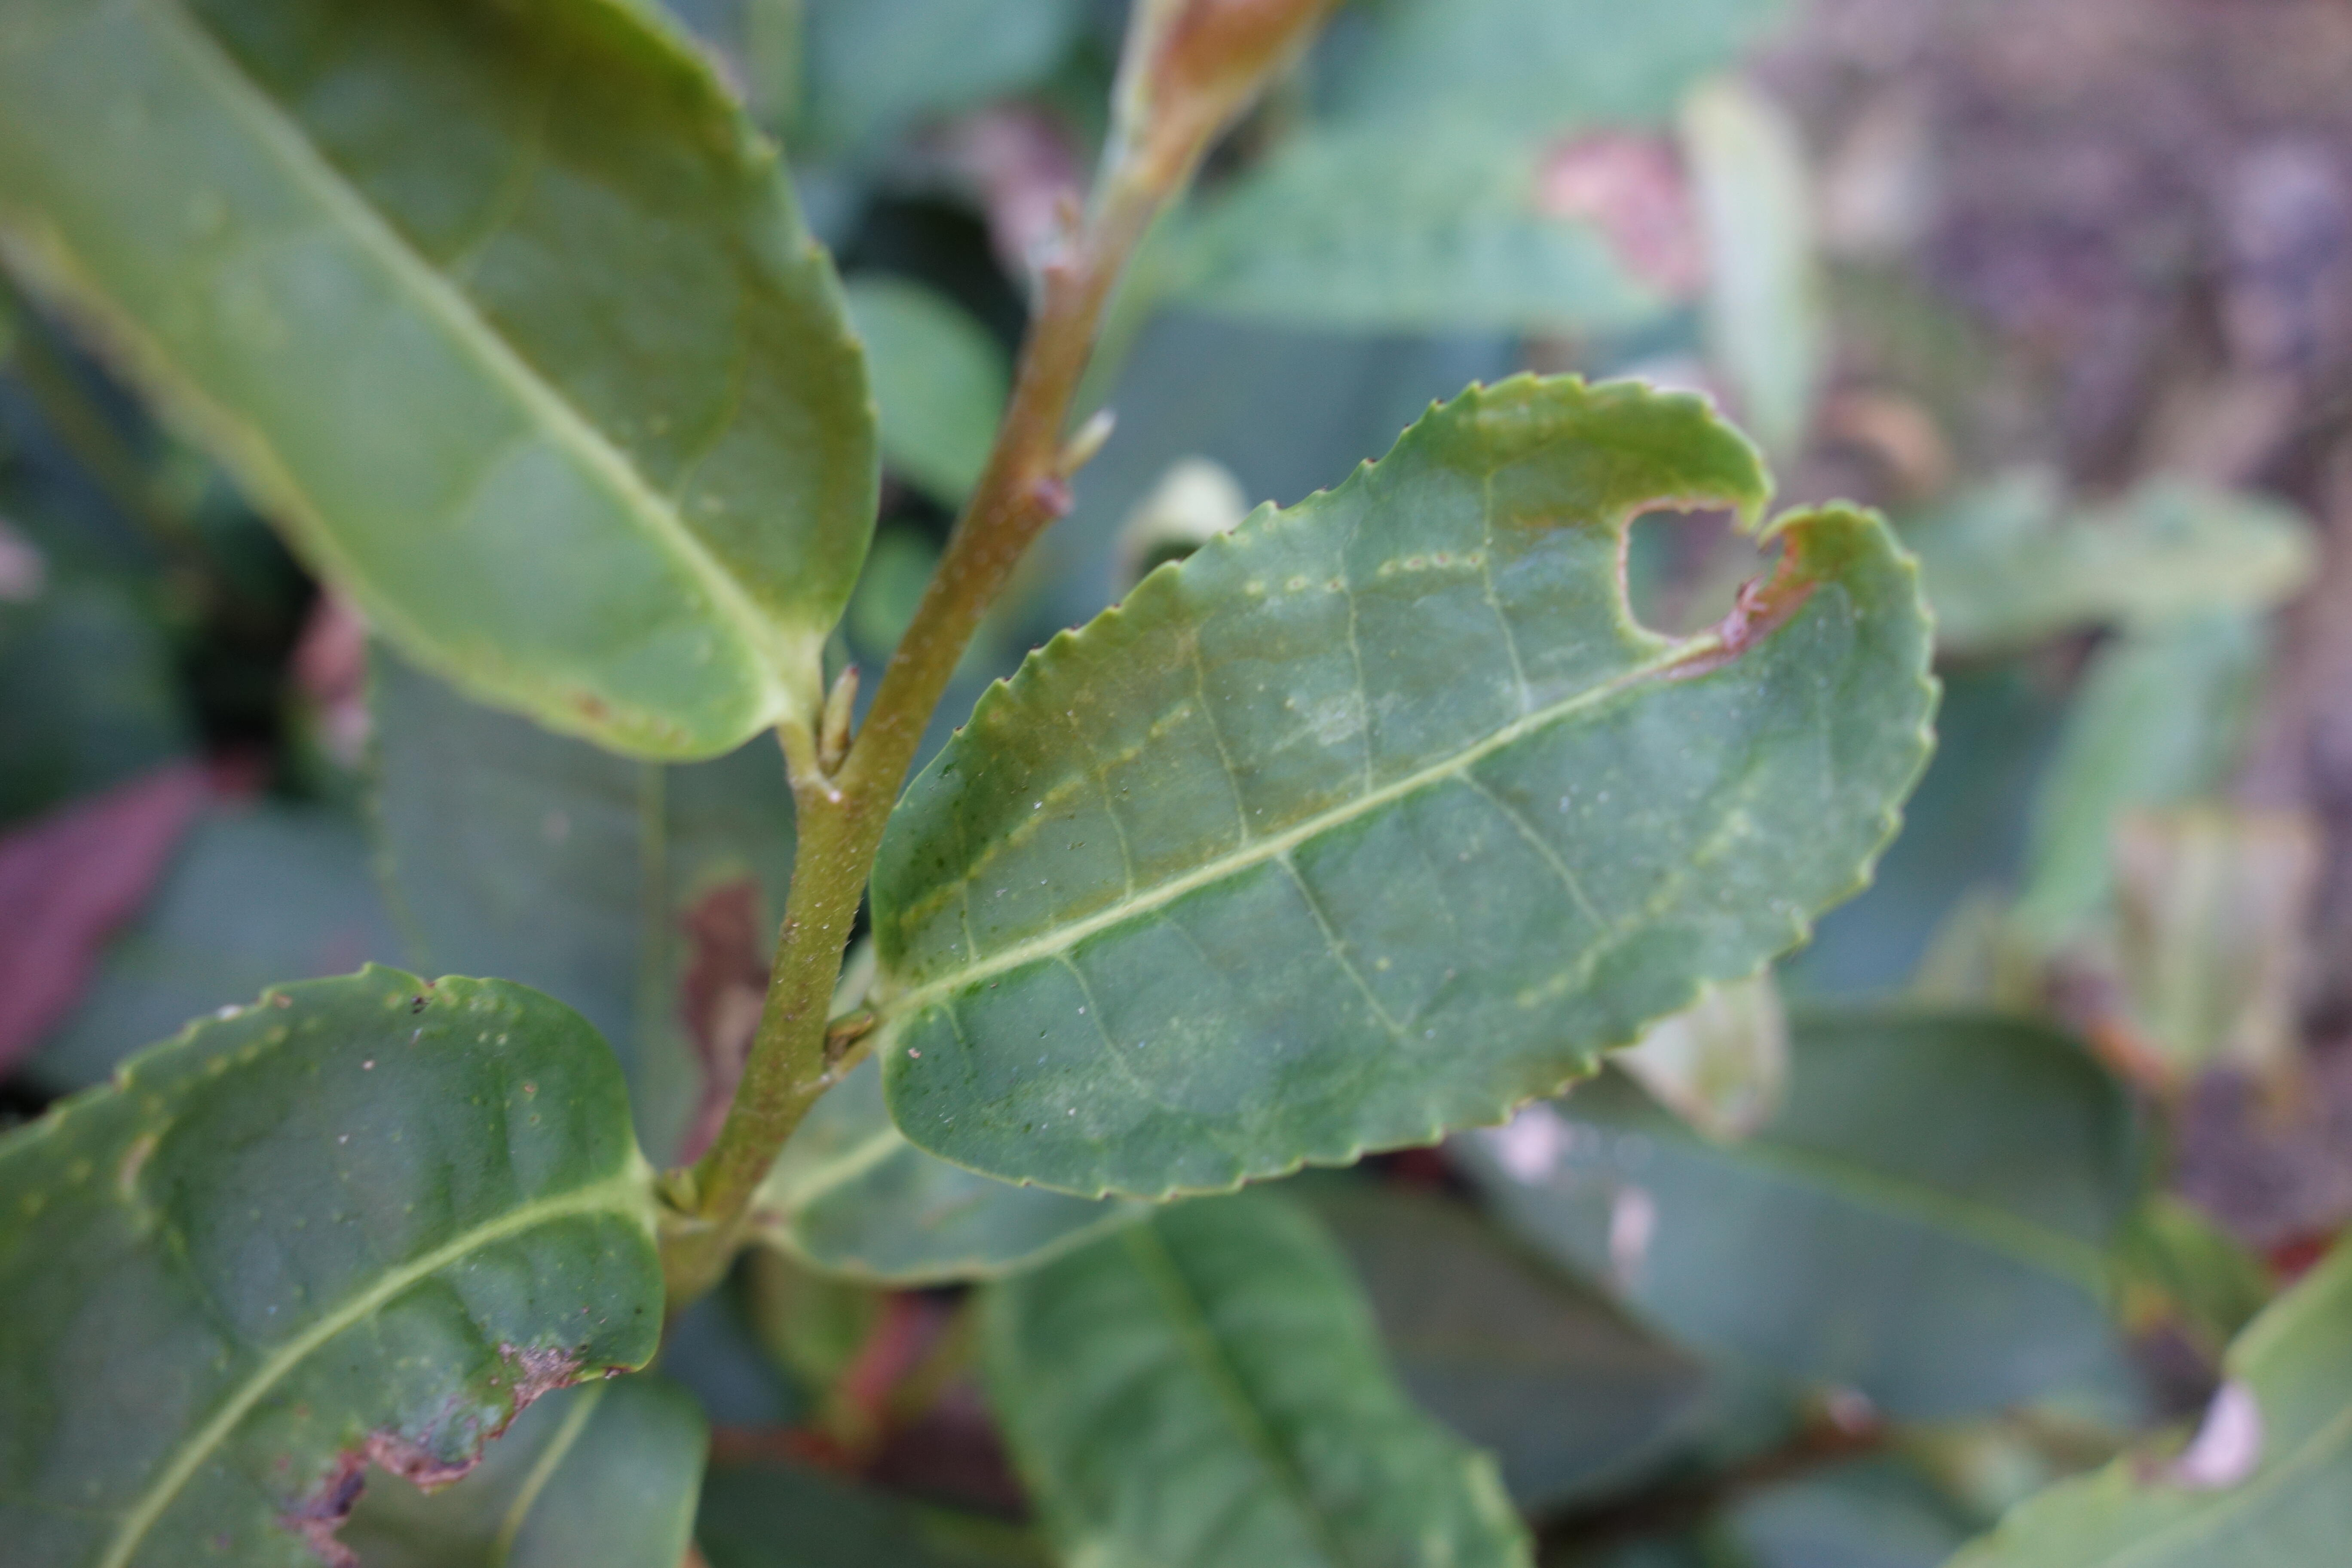chihuo_high: (2, 957, 674, 1559)
chihuo_low: (868, 369, 1946, 1202)
